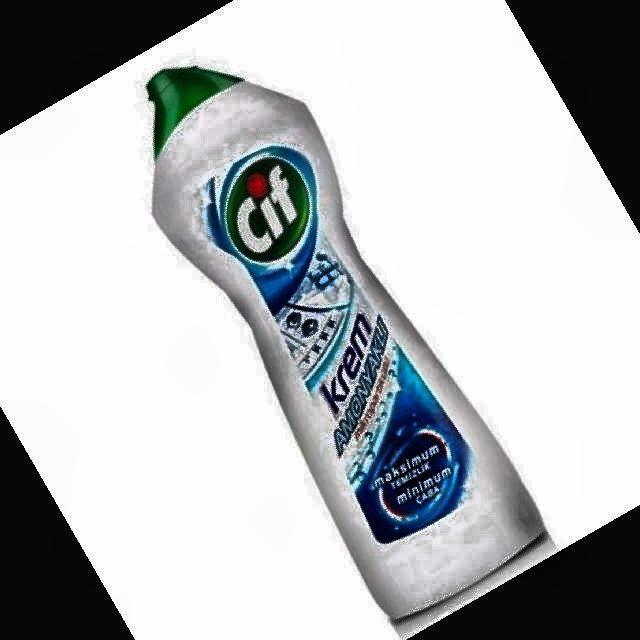plastic: (146, 66, 544, 619)
